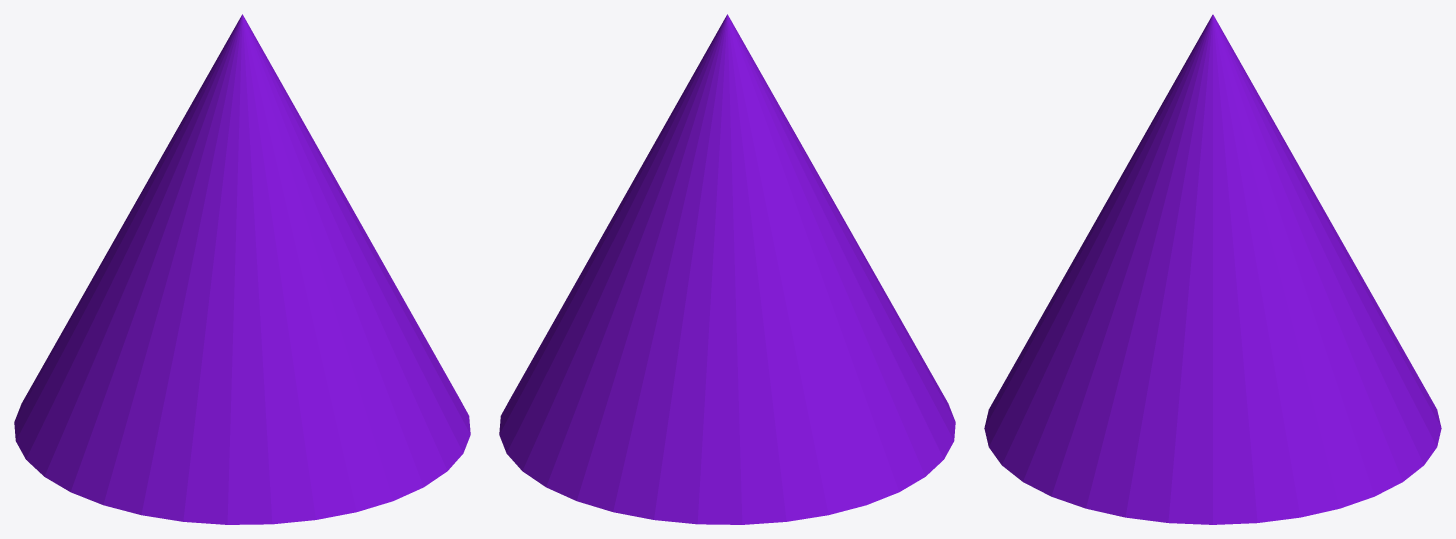
The model's file is davidSphereC3.gltf.
3 views of the same model, side by side, from view 1: azimuth 30°, elevation 25°; view 2: azimuth 150°, elevation 25°; view 3: azimuth 270°, elevation 25° (orthographic).
Parts seen in each view (by area): view 1: davidSphereC3; view 2: davidSphereC3; view 3: davidSphereC3.
Boxes of the visible parts, x1,y1,x2,y2 form: davidSphereC3: (14,14,470,524); davidSphereC3: (499,14,955,524); davidSphereC3: (984,14,1441,524).
Size of the model in its own units: 0.7338 by 0.7338 by 0.7338.
